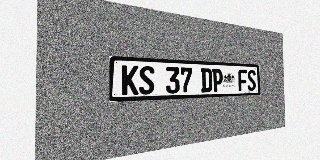3: (166, 67, 180, 94)
7: (180, 67, 193, 93)
D: (201, 68, 212, 92)
F: (238, 69, 247, 91)
K: (122, 65, 138, 95)
P: (212, 68, 223, 92)
S: (139, 66, 155, 95), (247, 70, 256, 91)
